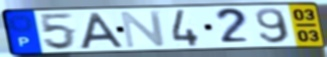2: (213, 6, 257, 47)
4: (170, 8, 202, 48)
5: (37, 12, 80, 51)
9: (254, 7, 292, 45)
A: (78, 11, 127, 50)
N: (119, 9, 168, 49)
